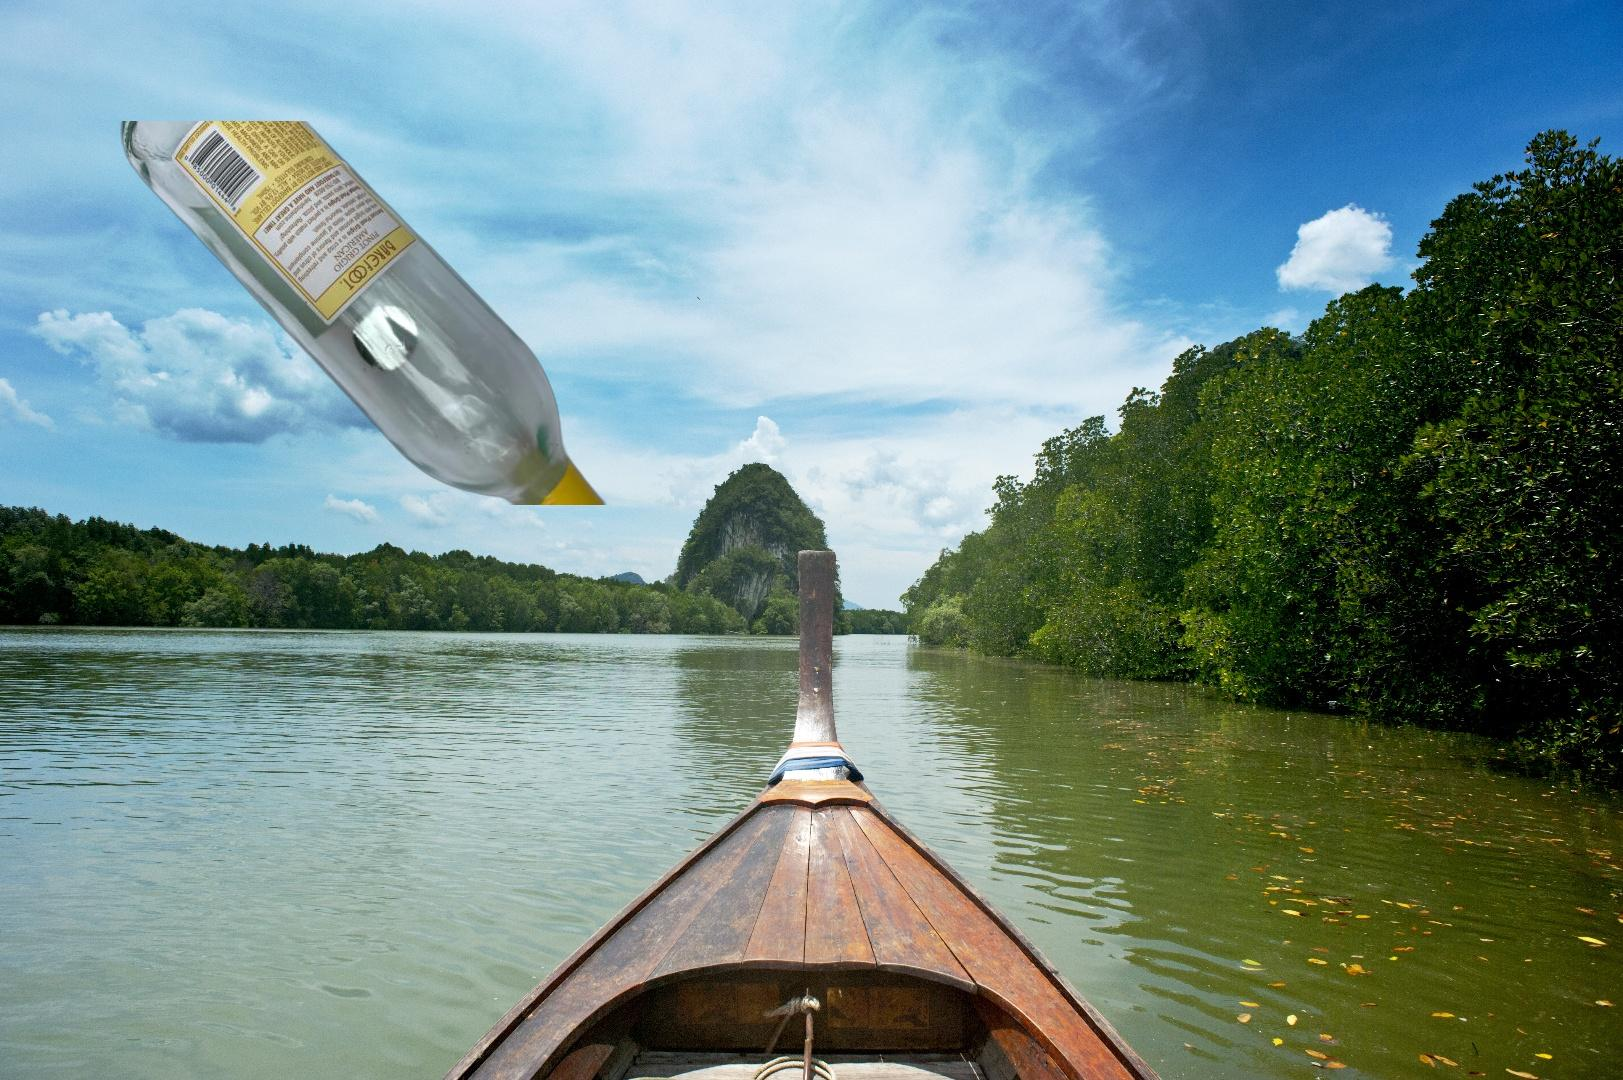glass: (106, 121, 618, 505)
